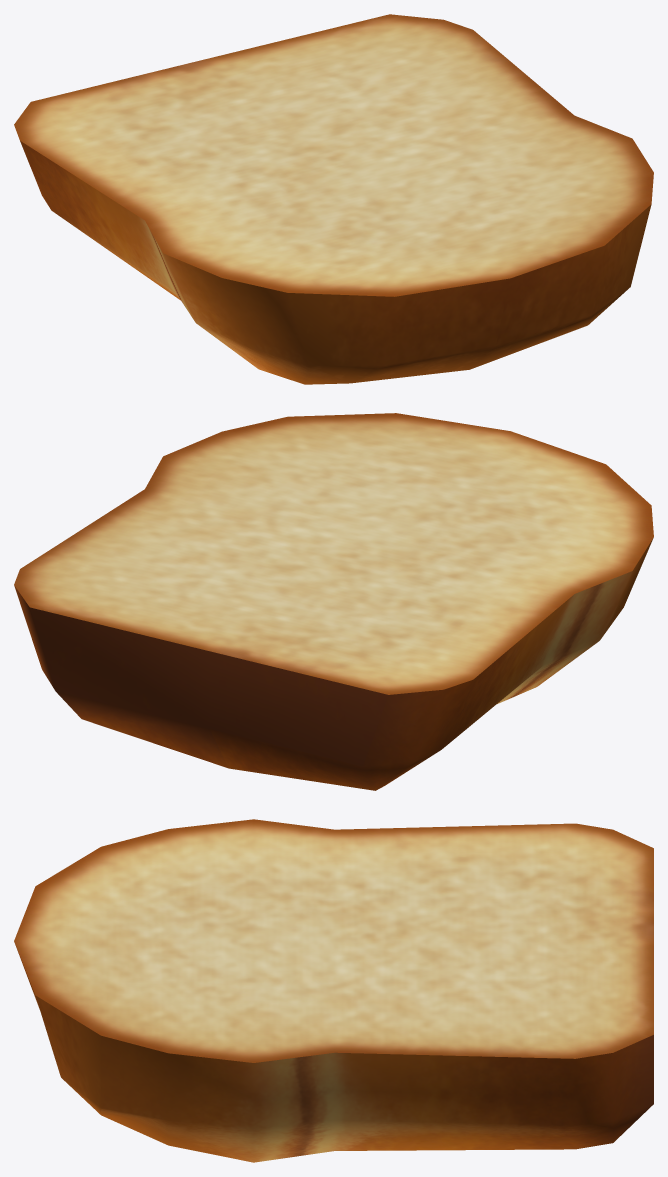
File: Loaf_End.fbx
3 renders of one model, top to bottom at view 1: azimuth 30°, elevation 25°; view 2: azimuth 150°, elevation 25°; view 3: azimuth 270°, elevation 25°, orthographic. The views are drawn at different scales.
Parts seen in each view (by area): view 1: Loaf_End; view 2: Loaf_End; view 3: Loaf_End.
Boxes of the visible parts, <box> form: Loaf_End: <box>14,14,653,384</box>; Loaf_End: <box>14,413,653,790</box>; Loaf_End: <box>14,819,653,1162</box>.
Bounding box in the file's own units: 39.11 × 12.57 × 43.39.
